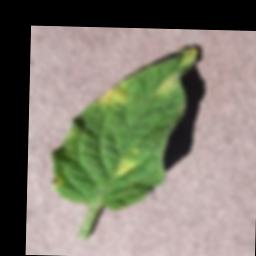Leaf_Mold: (97, 78, 132, 108), (155, 69, 183, 97), (114, 153, 139, 177)
